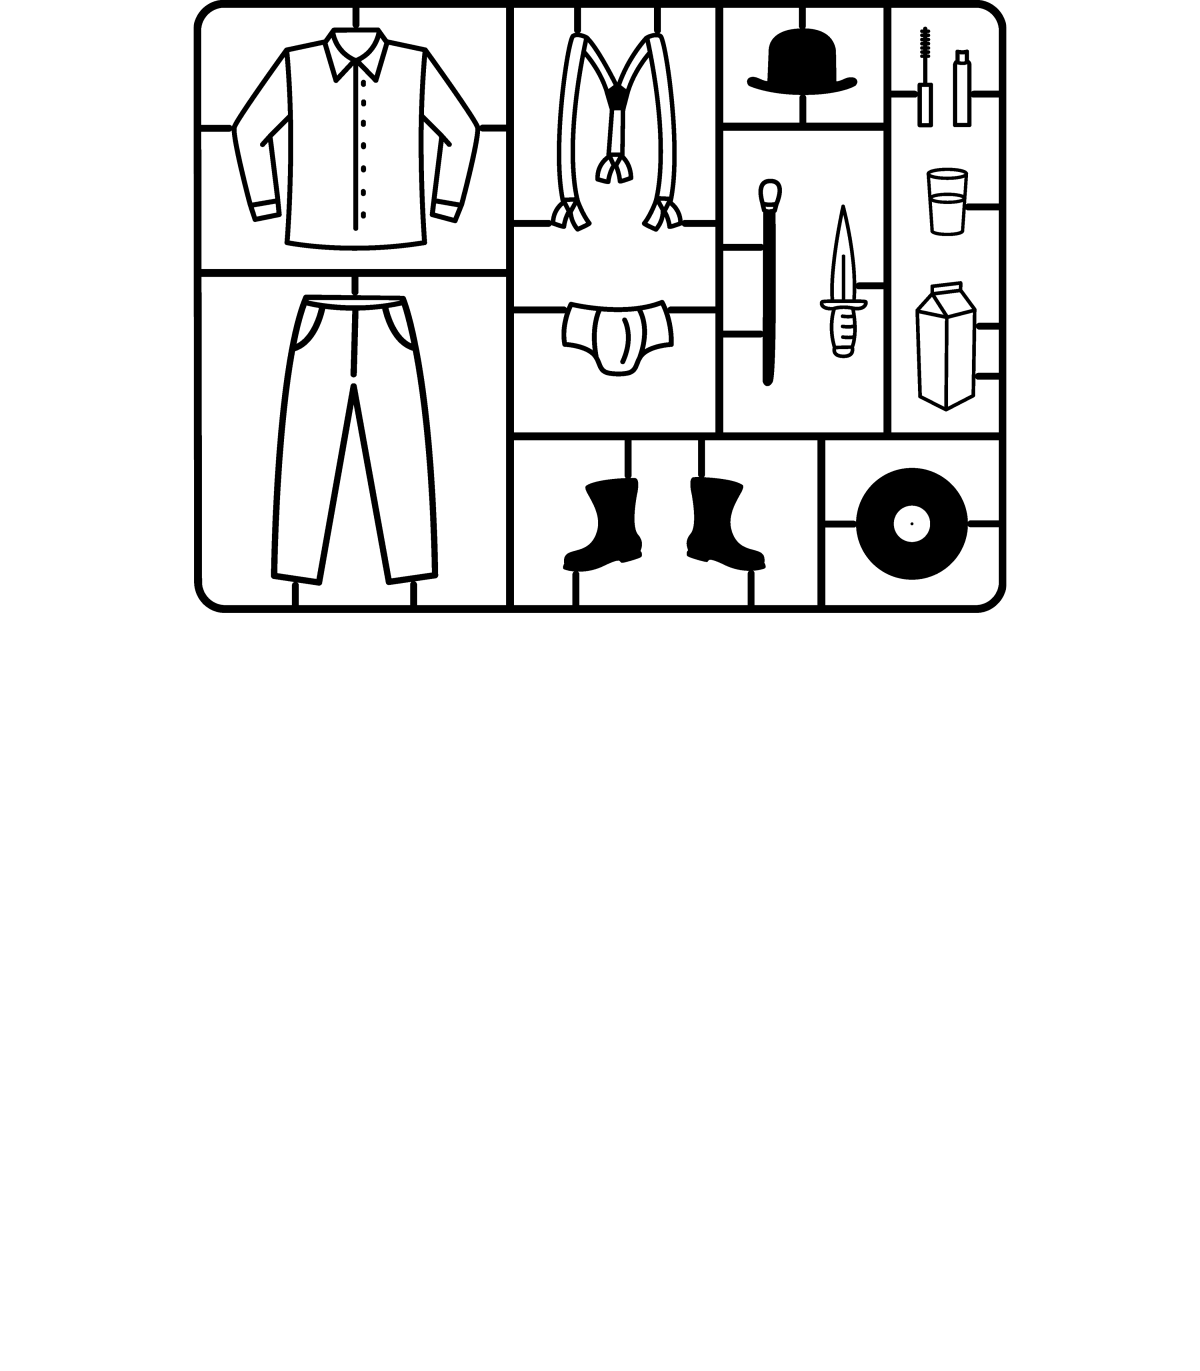design: (185, 3, 1020, 623), (161, 10, 826, 324)
